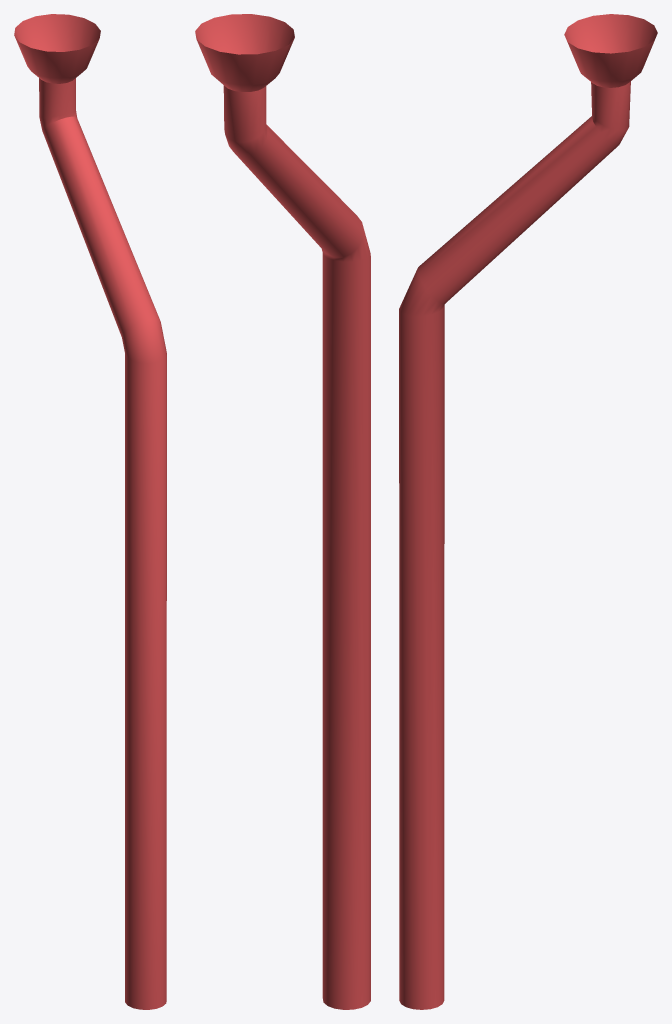
File: Gutter_part_1.fbx
3 renders of one model, left to right at view 1: azimuth 30°, elevation 25°; view 2: azimuth 150°, elevation 25°; view 3: azimuth 270°, elevation 25°, orthographic. The views are drawn at different scales.
Visible parts, largest first — view 1: Gutter_part_1; view 2: Gutter_part_1; view 3: Gutter_part_1.
Boxes of the visible parts, x1,y1,x2,y2 form: Gutter_part_1: [14, 14, 166, 1009]; Gutter_part_1: [195, 14, 370, 1009]; Gutter_part_1: [399, 14, 657, 1009].
Bounding box in the file's own units: 24.91 × 284 × 68.84.
